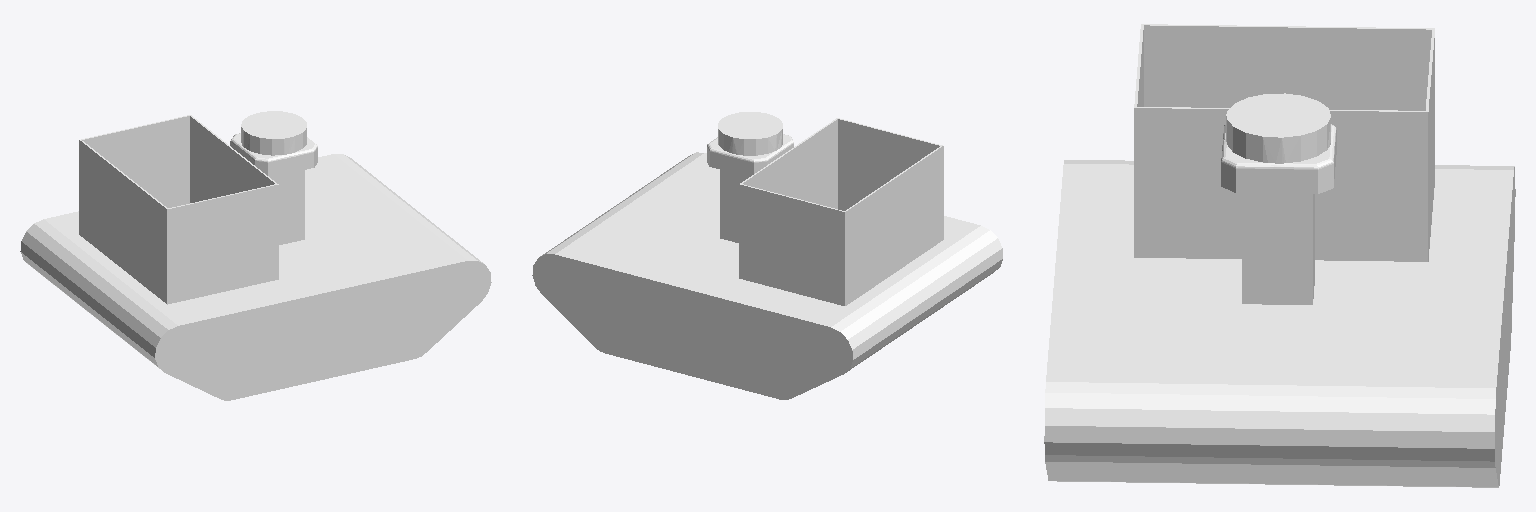
URDF robot description (tank3):
<?xml version="1.0" encoding="utf-8"?>
<!-- This URDF was automatically created by SolidWorks to URDF Exporter! Originally created by [author] ([email redacted]) 
     Commit Version: 1.6.0-4-g7f85cfe  Build Version: 1.6.7995.38578
     For more information, please see http://wiki.ros.org/sw_urdf_exporter -->
<robot 
  name="tank3">
  <link
    name="base_link">
    <visual>
      <origin
        xyz="0 0 0"
        rpy="0 0 0" />
      <geometry>
        <mesh
          filename="package://tank3/meshes/base_link.STL" />
      </geometry>
      <material
        name="">
        <color
          rgba="1 1 1 1" />
      </material>
    </visual>
    <collision>
      <origin
        xyz="0 0 0"
        rpy="0 0 0" />
      <geometry>
        <mesh
          filename="package://tank3/meshes/base_link.STL" />
      </geometry>
    </collision>
  </link>
</robot>

--- Render facts (derived) ---
3 views of the same robot in one strip: view 1: azimuth 30°, elevation 25°; view 2: azimuth 150°, elevation 25°; view 3: azimuth 270°, elevation 25° (orthographic).
Model tank3 with 1 links and 0 joints (none), rooted at base_link, posed all joints at 0.
Links seen in each view (by area): view 1: base_link; view 2: base_link; view 3: base_link.
Boxes of the visible links, left/top/right/bottom form: base_link: left=20, top=111, right=491, bottom=400; base_link: left=532, top=112, right=1002, bottom=399; base_link: left=1044, top=24, right=1515, bottom=487.
Bounding box of the posed robot: 0.4096 × 0.3135 × 0.228 m (x, y, z).
1 mesh visuals loaded from 1 distinct referenced files (1 binary STL).